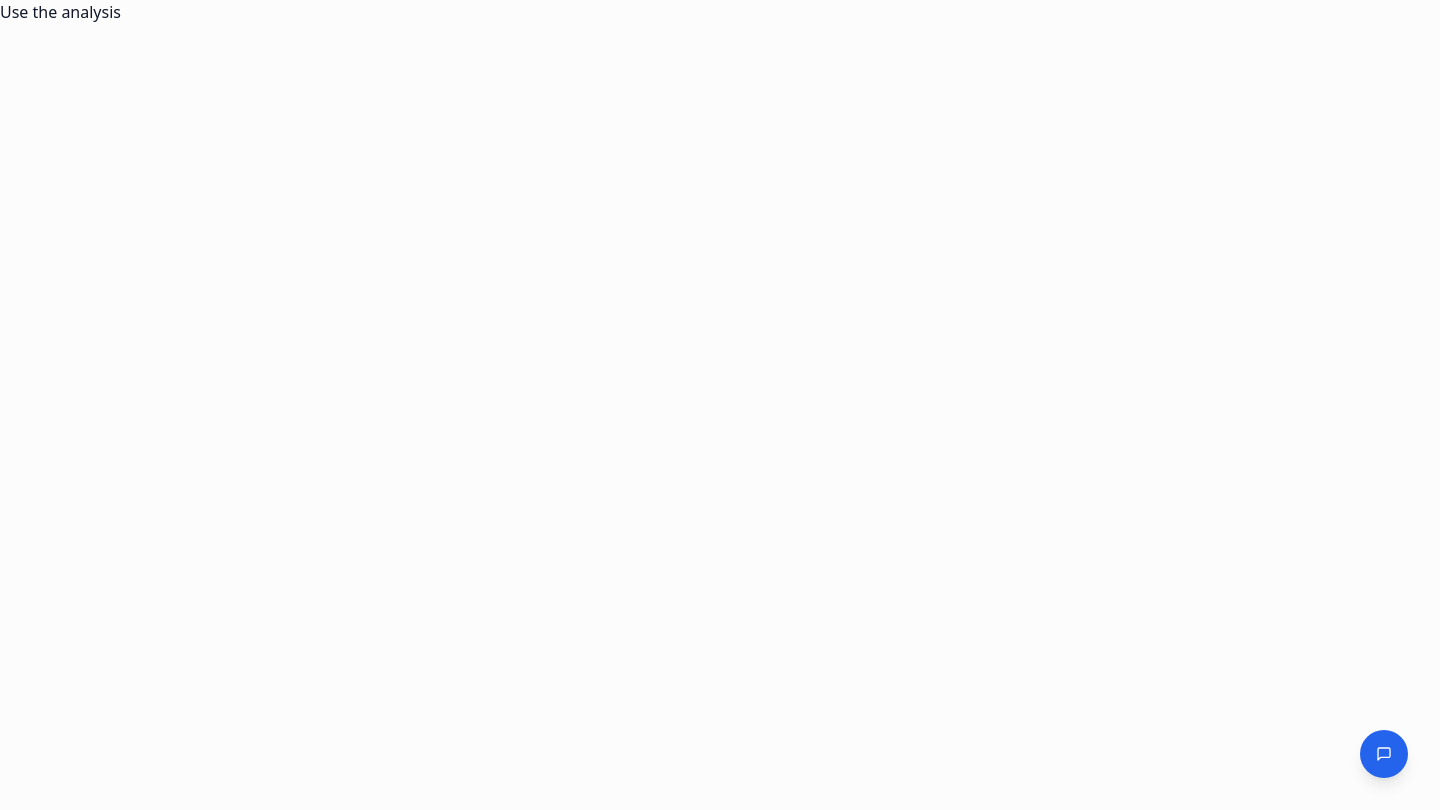
it: AnalysisChatBubble › reads the latest calculated table values at submission, including for a reader without a draft
The width and height of the screenshot is (1440, 810).
Click the button named "Chat about this analysis".
click(1384, 754)  # box [1360,730,1408,778]
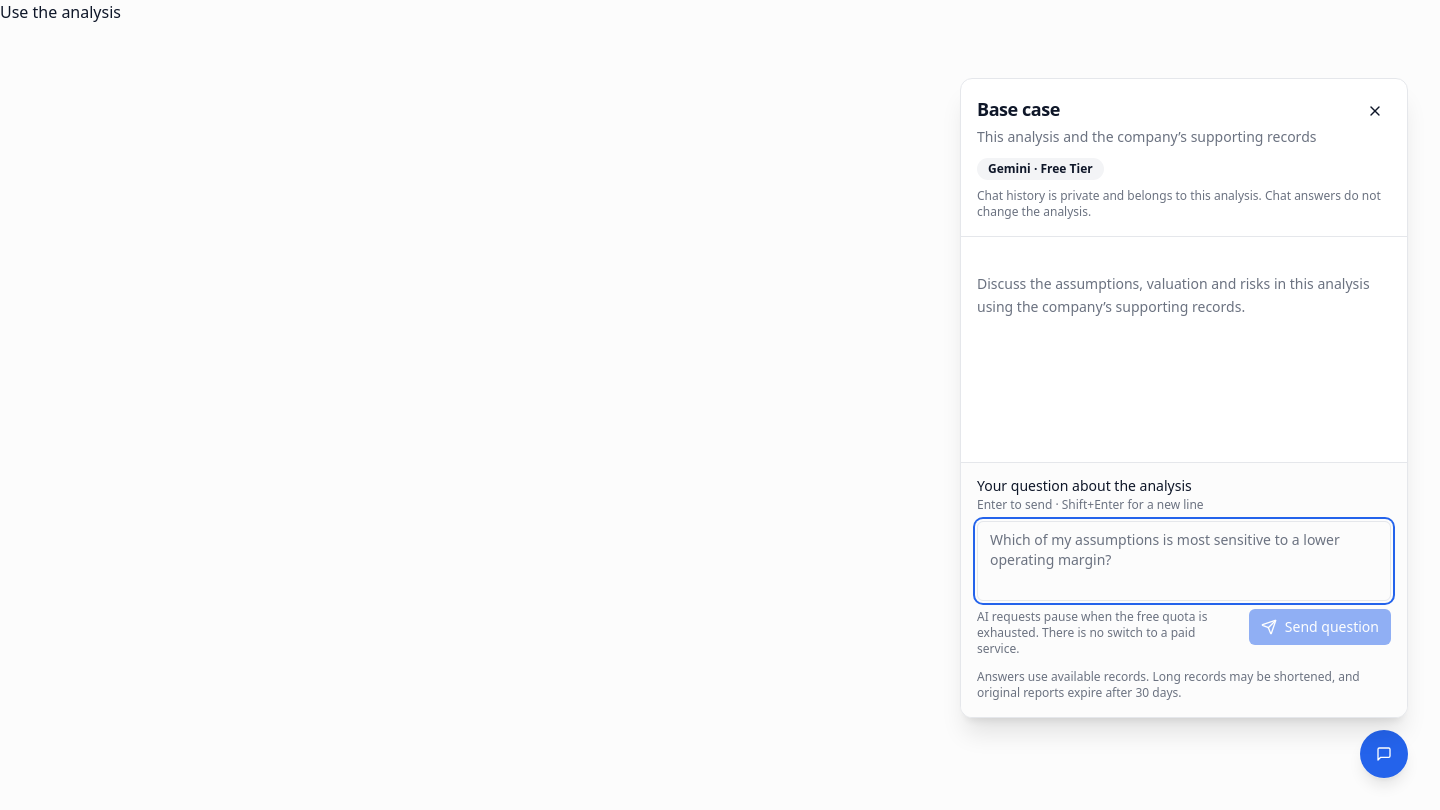
Check: the text box labelled "Your question about the analysis" is enabled
Replace the text in the text box labelled "Your question about the analysis" with "What is MoS next year?" at (1184, 561), box [977,521,1391,601]
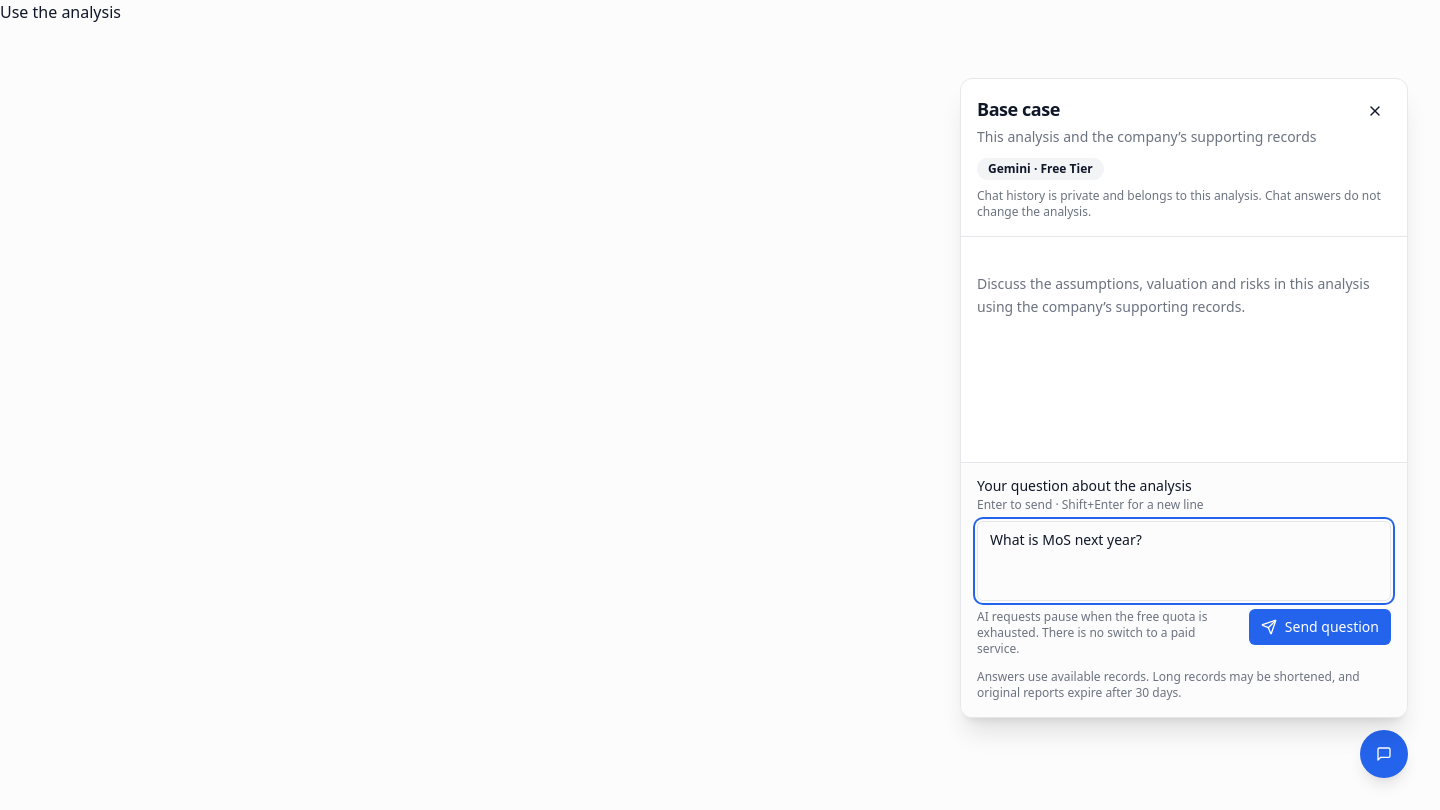
Click the button "Send question".
click(1320, 627)  # box [1249,609,1391,645]
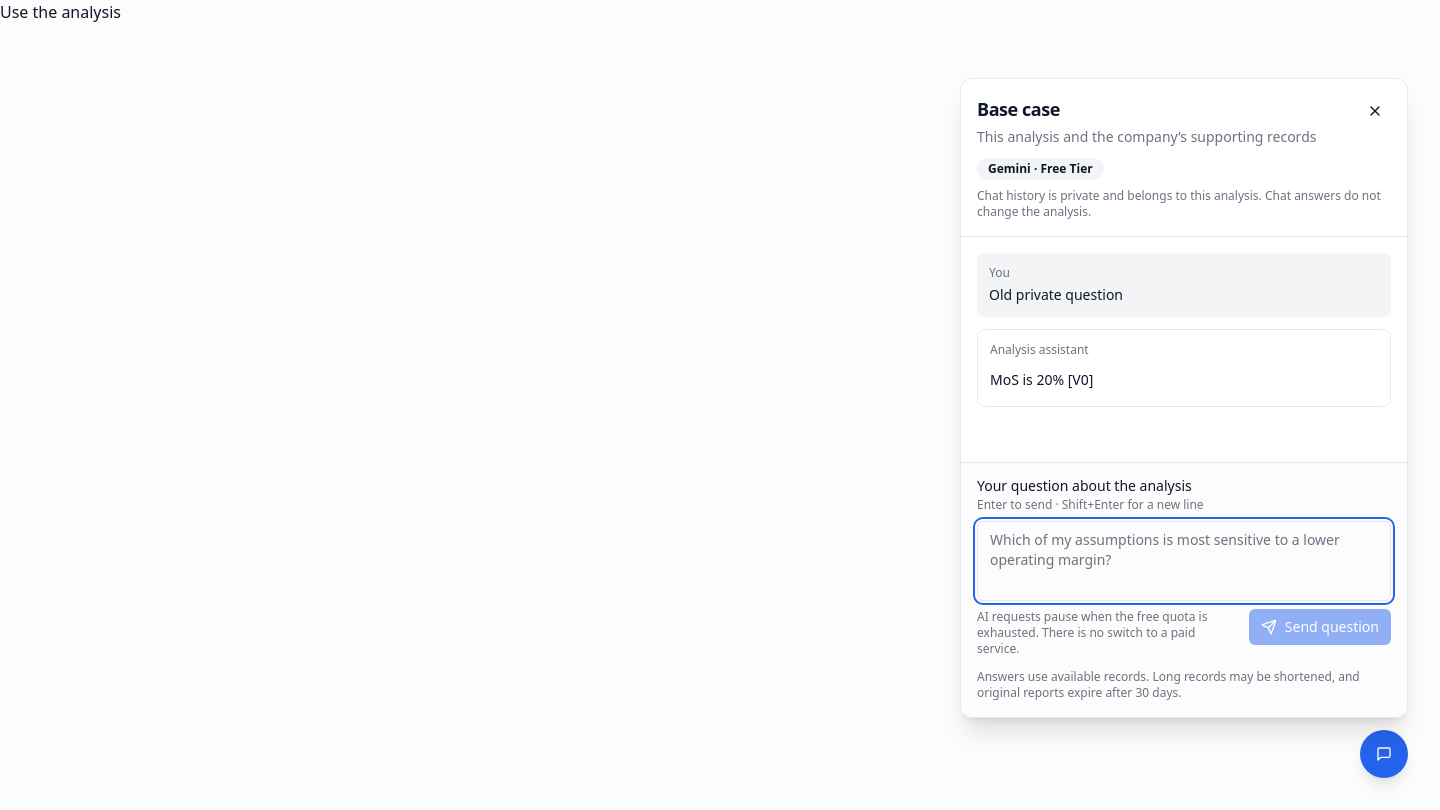
Check: the text "MoS is 20% [V0]" is shown, box [990,370,1093,389]
